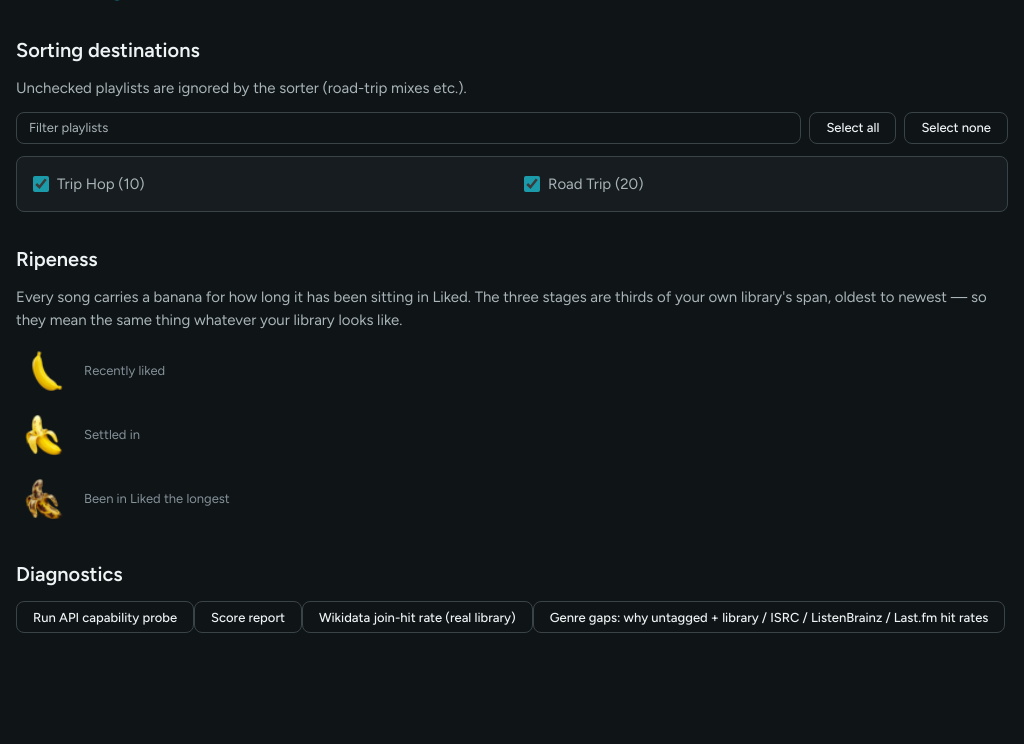
runs the DEV-only score report against the library and shows the histogram
(page scrolled)
Step 1. Click the button "Score report" → (248, 617), box [194,601,302,633]
(page scrolled)
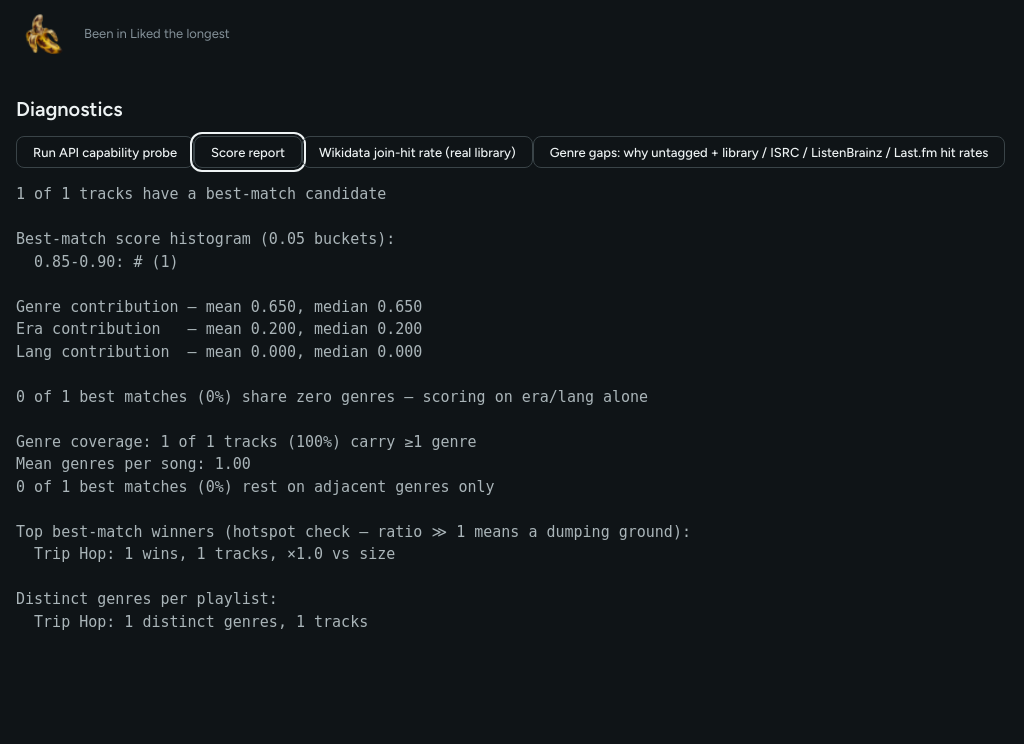
Check: the text "genre coverage: 1 of 1 tracks" is shown, box [16,185,691,630]
